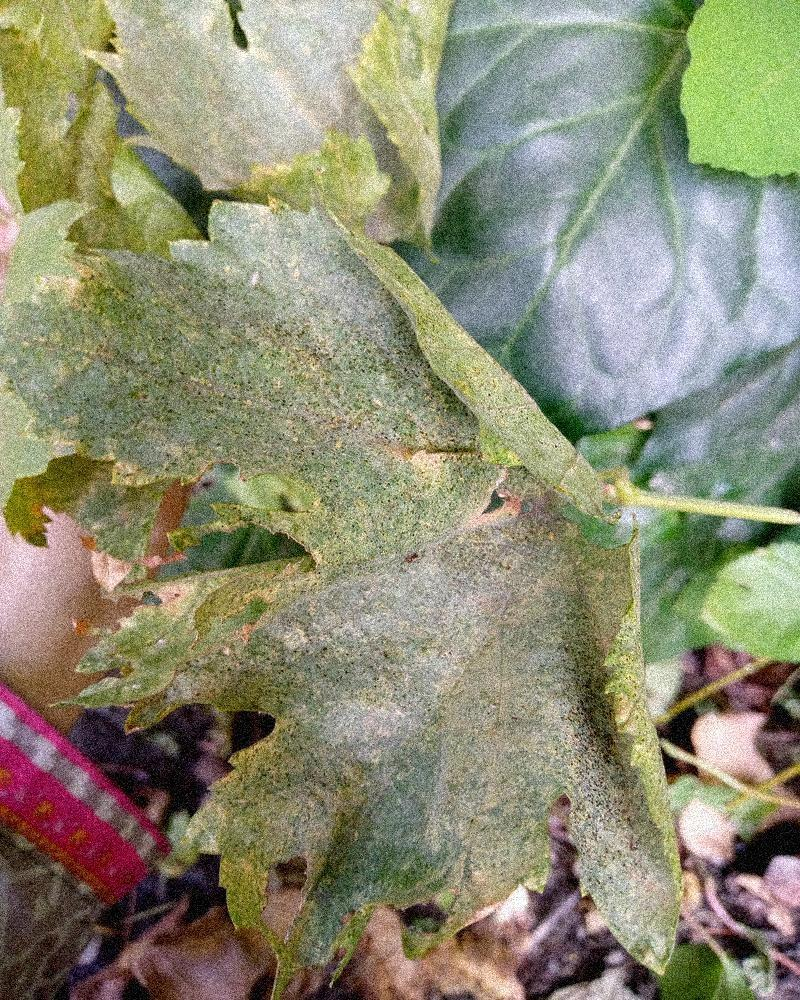Powdery-Mildew: (199, 204, 390, 355), (389, 565, 537, 721), (432, 765, 546, 922), (584, 815, 687, 961), (314, 695, 414, 758), (399, 429, 462, 492), (472, 474, 535, 537)
